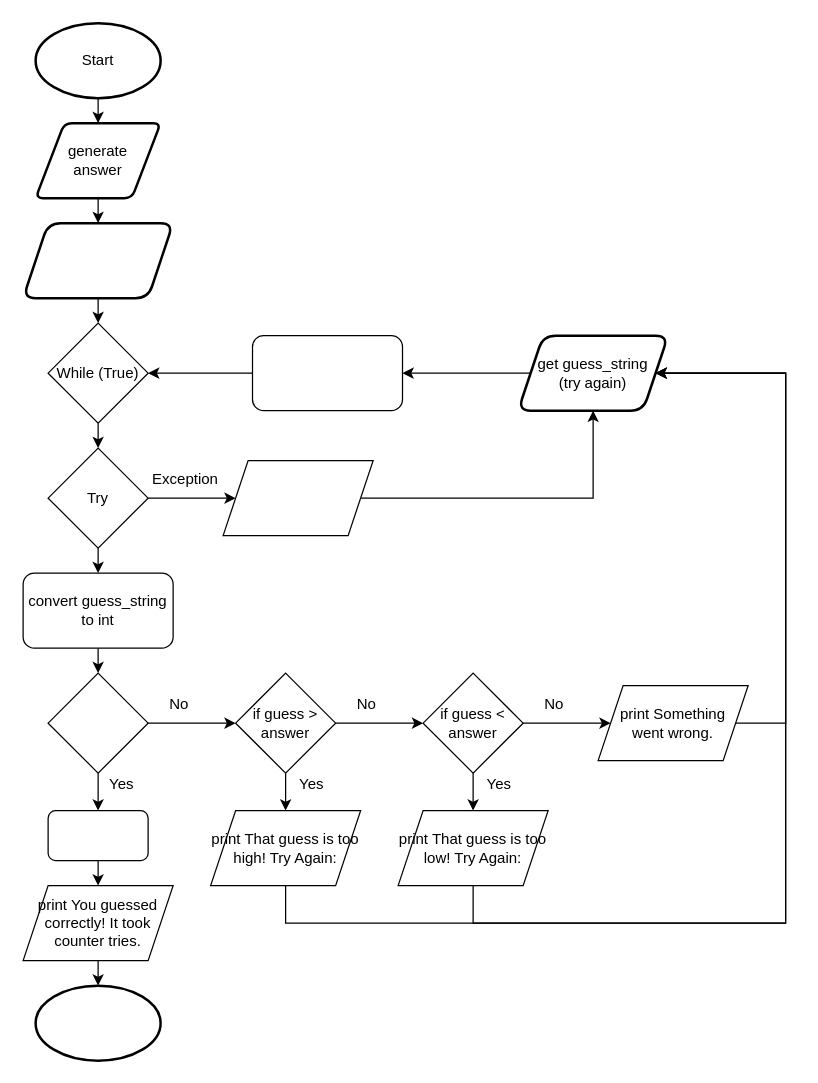
The diagram is 818 pixels wide and 1083 high, and some of its shapes have lost their labels. Each missing label, with the centre of its shape:
break: point (97, 835)
counter++: point (326, 372)
get guess_string (first entry): point (97, 260)
if guess == answer: point (97, 722)
print That is not a valid integer.: point (297, 497)
Stop: point (97, 1022)
